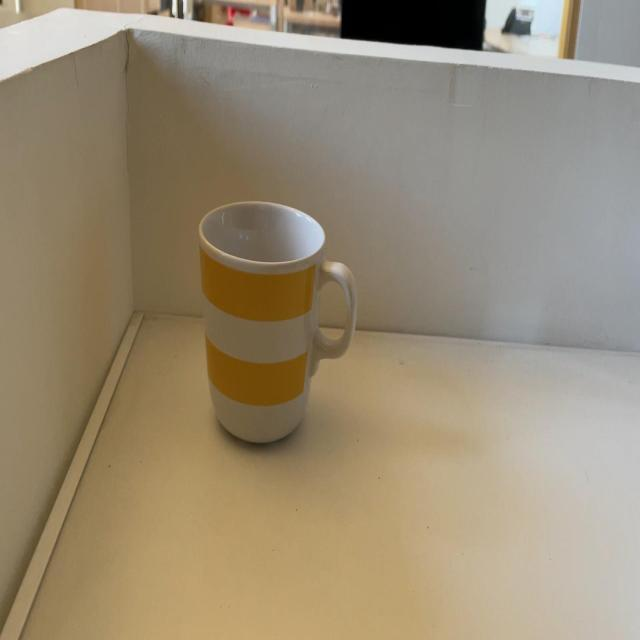cup: (195, 206, 366, 446)
